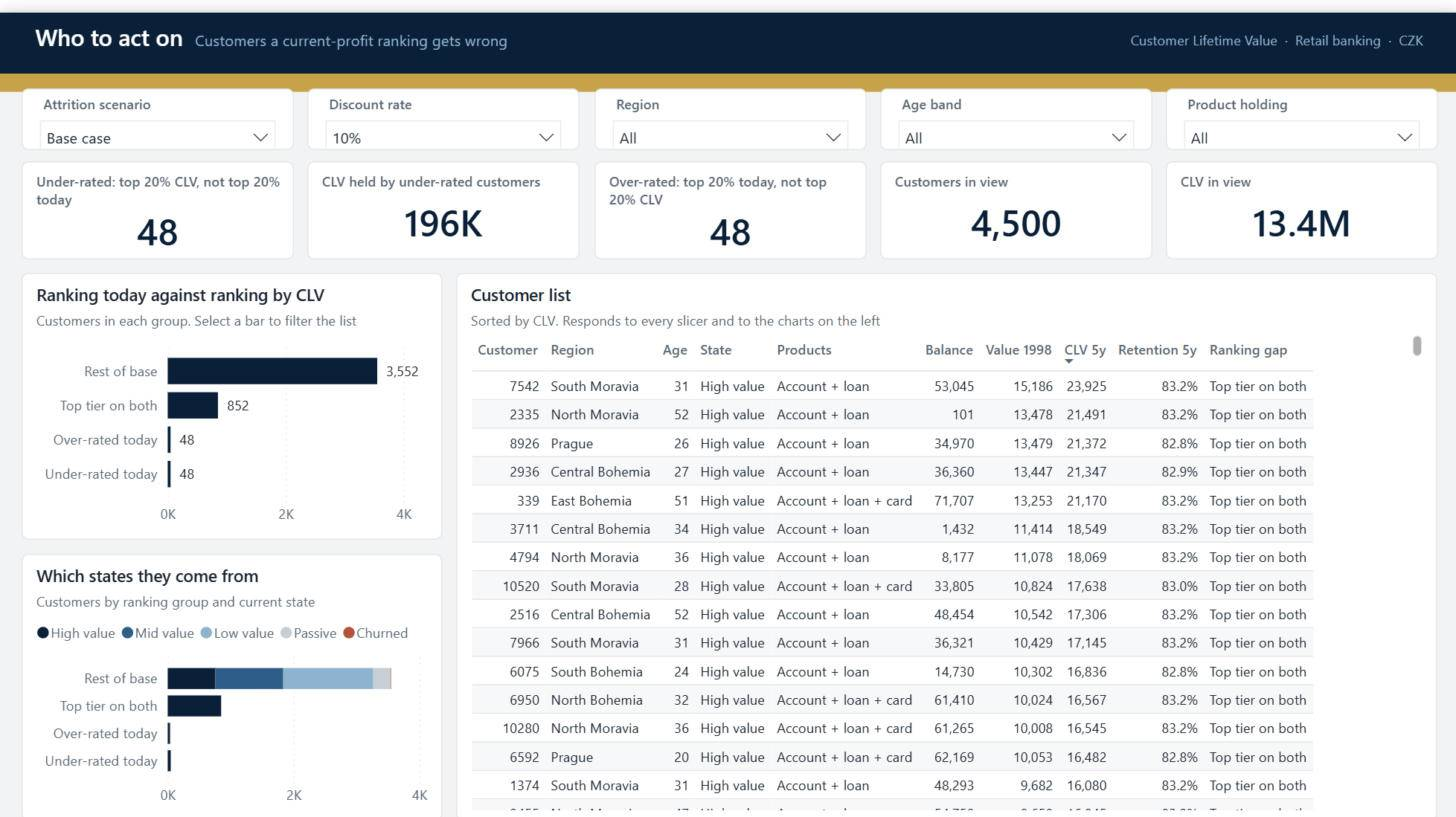

This screenshot's page, from the dashboard's own definition file:
{"tool":"powerbi","page":{"name":"Who to act on","canvas":[1280,720],"ordinal":3},"visuals":[{"type":"textbox","box":[0,0,1280,54],"z":1000},{"type":"textbox","box":[0,54,1280,3],"z":2000},{"type":"textbox","box":[20,0,760,54],"z":3000},{"type":"textbox","box":[840,8,420,44],"z":4000},{"type":"slicer","fields":{"Values":["Scenario.Scenario"]},"box":[20,66,238.4,54],"z":5000},{"type":"slicer","fields":{"Values":["Discount Rate.Discount rate"]},"box":[270.4,66,238.4,54],"z":6000},{"type":"slicer","fields":{"Values":["Customer.Region"]},"box":[520.8,66,238.4,54],"z":7000},{"type":"slicer","fields":{"Values":["Customer.Age band"]},"box":[771.2,66,238.4,54],"z":8000},{"type":"slicer","fields":{"Values":["Customer.Product holding"]},"box":[1021.6,66,238.4,54],"z":9000},{"type":"card","title":"Under-rated: top 20% CLV, not top 20% today","fields":{"Values":["Key Measures.Under-rated customers"]},"box":[20,130,238.4,86],"z":10000},{"type":"card","title":"CLV held by under-rated customers","fields":{"Values":["Key Measures.Under-rated CLV"]},"box":[270.4,130,238.4,86],"z":11000},{"type":"card","title":"Over-rated: top 20% today, not top 20% CLV","fields":{"Values":["Key Measures.Over-rated customers"]},"box":[520.8,130,238.4,86],"z":12000},{"type":"card","title":"Customers in view","fields":{"Values":["Key Measures.Customers"]},"box":[771.2,130,238.4,86],"z":13000},{"type":"card","title":"CLV in view","fields":{"Values":["Key Measures.CLV"]},"box":[1021.6,130,238.4,86],"z":14000},{"type":"clusteredBarChart","title":"Ranking today against ranking by CLV","fields":{"Category":["Customer.Ranking gap"],"Y":["Key Measures.Customers"]},"box":[20,228,368.4,234],"z":15000},{"type":"barChart","title":"Which states they come from","fields":{"Category":["Customer.Ranking gap"],"Series":["Customer.Current state"],"Y":["Key Measures.Customers"]},"box":[20,474,368.4,234],"z":16000},{"type":"tableEx","title":"Customer list","fields":{"Values":["Customer.Customer ID","Customer.Region","Customer.Age","Customer.Current state","Customer.Product holding","Customer.Current balance","Customer.Current value","Key Measures.CLV","Key Measures.Retention after 5 years","Customer.Ranking gap"]},"box":[400.4,228,859.6,480],"z":17000}]}

Visuals, with their boxes in screenshot pixels (x1, y1, x2, y2), scaled from the page's 1280x720 canvas onto the 1456x817 screenshot:
textbox: bbox=(0, 0, 1455, 61)
textbox: bbox=(0, 61, 1455, 65)
textbox: bbox=(23, 0, 887, 61)
textbox: bbox=(956, 9, 1433, 59)
slicer - Scenario.Scenario: bbox=(23, 75, 294, 136)
slicer - Discount Rate.Discount rate: bbox=(308, 75, 579, 136)
slicer - Customer.Region: bbox=(592, 75, 864, 136)
slicer - Customer.Age band: bbox=(877, 75, 1148, 136)
slicer - Customer.Product holding: bbox=(1162, 75, 1433, 136)
"Under-rated: top 20% CLV, not top 20% today" card: bbox=(23, 148, 294, 245)
"CLV held by under-rated customers" card: bbox=(308, 148, 579, 245)
"Over-rated: top 20% today, not top 20% CLV" card: bbox=(592, 148, 864, 245)
"Customers in view" card: bbox=(877, 148, 1148, 245)
"CLV in view" card: bbox=(1162, 148, 1433, 245)
"Ranking today against ranking by CLV" clusteredBarChart: bbox=(23, 259, 442, 524)
"Which states they come from" barChart: bbox=(23, 538, 442, 803)
"Customer list" tableEx: bbox=(455, 259, 1433, 803)
